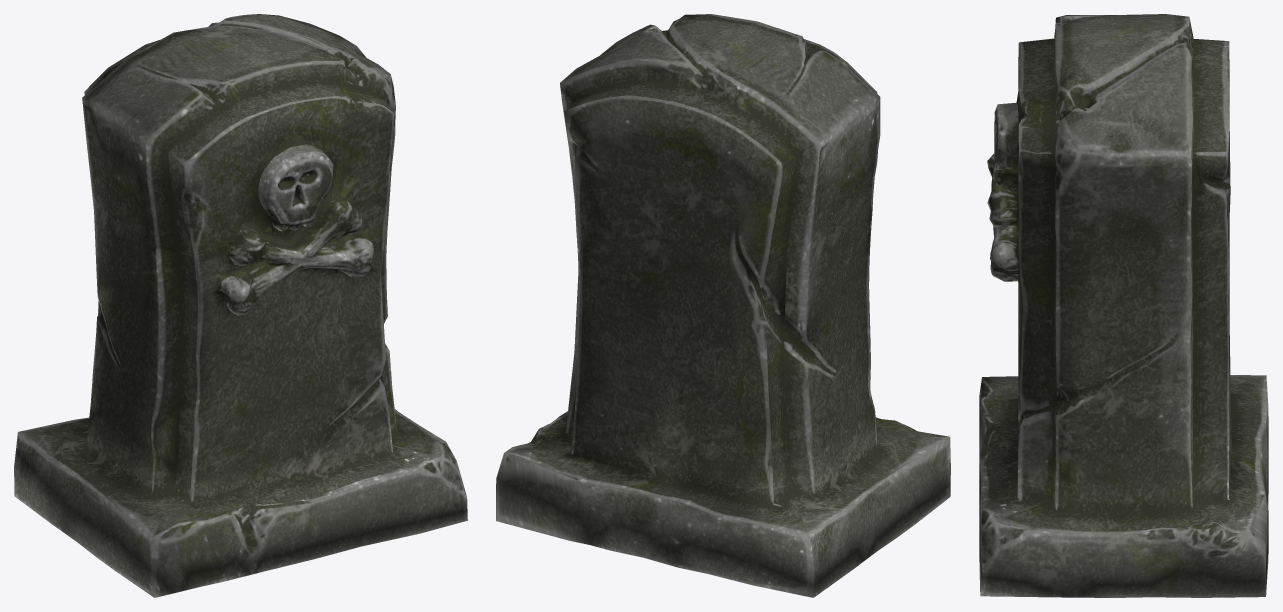
The model's file is graveyard_stone.glb.
The picture shows the model from 3 angles, left to right: view 1: azimuth 30°, elevation 25°; view 2: azimuth 150°, elevation 25°; view 3: azimuth 270°, elevation 25°; orthographic projection. The views are drawn at different scales.
Visible parts, largest first — view 1: Object_2; view 2: Object_2; view 3: Object_2.
Boxes of the visible parts, <box> form: Object_2: <box>14,14,467,597</box>; Object_2: <box>496,14,950,597</box>; Object_2: <box>979,14,1268,597</box>.
Bounding box in the file's own units: 172 × 243 × 132.
1 material, 1 textured.
